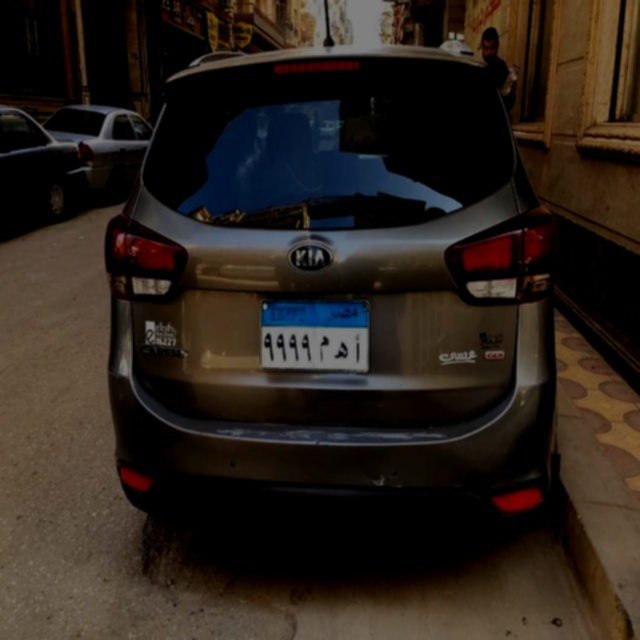License Plate: (260, 297, 371, 373)
